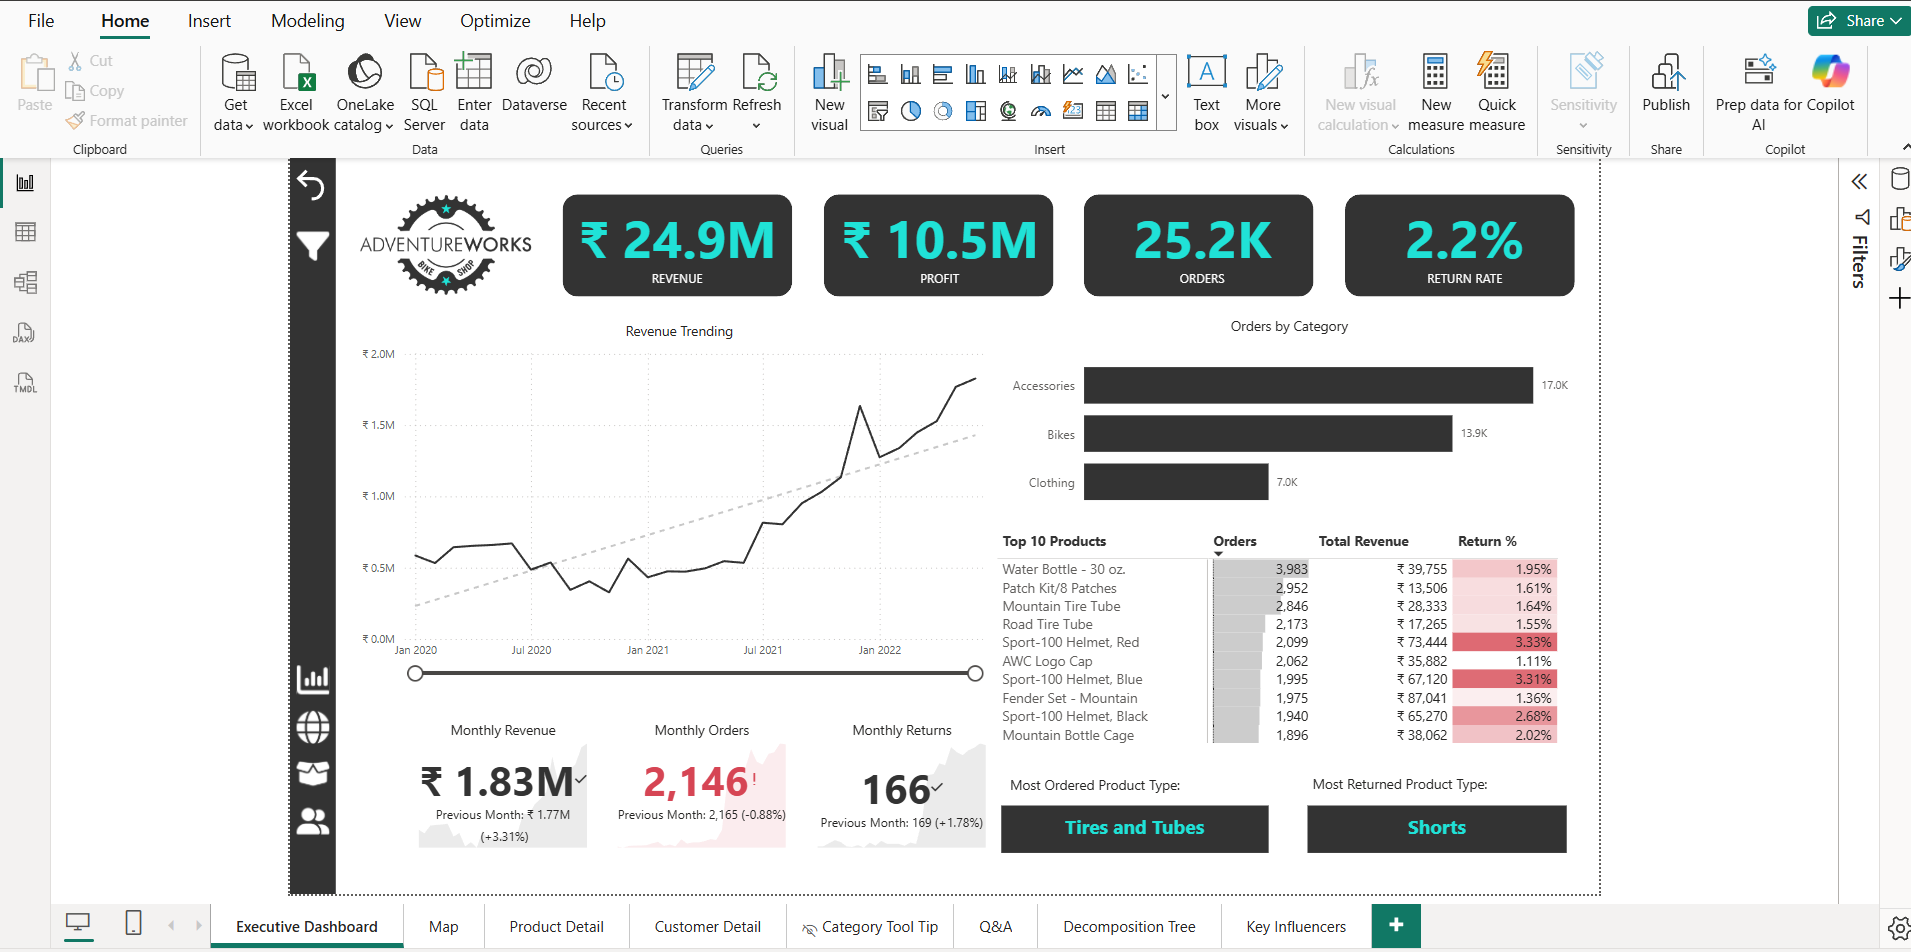

This screenshot's page, from the dashboard's own definition file:
{"tool":"powerbi","page":{"name":"Executive Dashboard","canvas":[1280,720],"ordinal":0},"visuals":[{"type":"card","fields":{"Values":["Measure Table.Return Rate"]},"box":[1033,9.8,234.7,150.4],"z":0,"group":"g2"},{"type":"image","title":"AW Logo","box":[45.2,14.7,215.1,140.6],"z":0},{"type":"group","id":"g1","title":"KPI Backgrounds","box":[267.2,35.5,990.2,100.2],"z":0,"group":"g3"},{"type":"shape","box":[267.2,35.5,224.9,100.2],"z":0,"group":"g1"},{"type":"actionButton","box":[2.7,490.2,45.2,40.3],"z":0,"group":"g4"},{"type":"shape","title":"Left Nav Background","box":[0,0,45,720],"z":1000},{"type":"group","id":"g2","title":"KPI Values","box":[262,9.8,1005.7,150.4],"z":1000,"group":"g3"},{"type":"card","fields":{"Values":["Measure Table.Total Orders"]},"box":[776,9.8,234.7,150.4],"z":1000,"group":"g2"},{"type":"shape","box":[777.4,35.5,224.9,100.2],"z":1000,"group":"g1"},{"type":"actionButton","box":[2.7,582.3,45.2,40.3],"z":1000,"group":"g4"},{"type":"group","id":"g3","title":"KPIs","box":[262,9.8,1005.7,150.4],"z":2000},{"type":"card","fields":{"Values":["Measure Table.Total Profit"]},"box":[519,9.8,234.7,150.4],"z":2000,"group":"g2"},{"type":"shape","box":[1032.4,35.5,224.9,100.2],"z":2000,"group":"g1"},{"type":"actionButton","box":[2.7,628.3,45.2,40.3],"z":2000,"group":"g4"},{"type":"card","title":"Card","fields":{"Values":["Measure Table.Total Revenue"]},"box":[262,9.8,234.7,150.4],"z":3000,"group":"g2"},{"type":"shape","box":[522.3,35.5,224.9,100.2],"z":3000,"group":"g1"},{"type":"lineChart","title":"Revenue Trending","fields":{"Y":["Measure Table.Total Revenue"],"Category":["Calendar Lookup.Year","Calendar Lookup.Start of Quarter","Calendar Lookup.Start of Month"]},"box":[64.8,160.1,632,354.5],"z":3000},{"type":"actionButton","box":[2.7,536.2,45.2,40.3],"z":3000,"group":"g4"},{"type":"kpi","title":"Monthly Revenue","fields":{"Indicator":["Measure Table.Total Revenue"],"TrendLine":["Calendar Lookup.Start of Month"],"Goal":["Measure Table.Previous Month Revenue"]},"box":[121,550.3,174.8,129.6],"z":4000},{"type":"kpi","title":"Monthly Orders","fields":{"TrendLine":["Calendar Lookup.Start of Month"],"Indicator":["Measure Table.Total Orders"],"Goal":["Measure Table.Previous Month Orders"]},"box":[316,550.3,174.8,129.6],"z":5000},{"type":"kpi","title":"Monthly Returns","fields":{"TrendLine":["Calendar Lookup.Start of Month"],"Indicator":["Measure Table.Total Returns"],"Goal":["Measure Table.Previous Month Returns"]},"box":[511,550.3,174.8,129.6],"z":6000},{"type":"clusteredBarChart","title":"Orders by Category","fields":{"Category":["Product Categories Lookup.CategoryName"],"Y":["Measure Table.Total Orders"]},"box":[696.8,155.2,561.1,205.4],"z":7000},{"type":"pivotTable","fields":{"Rows":["Product Lookup.ProductName"],"Values":["Measure Table.Total Orders","Measure Table.Total Revenue","Measure Table.Return Rate"]},"box":[687,360.6,570.9,232.3],"z":8000},{"type":"card","fields":{"Values":["Min(Product Subcategories Lookup.SubcategoryName)"]},"box":[696.2,633.8,261.2,46.2],"z":9000},{"type":"textbox","box":[700,598.8,205,43.8],"z":10000},{"type":"card","fields":{"Values":["Min(Product Subcategories Lookup.SubcategoryName)"]},"box":[995,633.8,253.8,46.2],"z":11000},{"type":"textbox","box":[995,597.8,205,43.8],"z":12000},{"type":"actionButton","box":[0,6.1,45.2,40.3],"z":13000},{"type":"group","id":"g4","title":"Navigation Buttons","box":[2.7,490.2,45.2,178.5],"z":14000},{"type":"actionButton","box":[2.4,66,47.7,40.3],"z":15000}]}

Visuals, with their boxes on the page's 1280x720 design canvas (x1, y1, x2, y2). These are canvas units, not pixel positions in the 1911x952 screenshot, which may show the page scaled, cropped or inside an application window:
card - Measure Table.Return Rate: 1033 10 1268 160
"AW Logo" image: 45 15 260 155
"KPI Backgrounds" group: 267 36 1257 136
shape: 267 36 492 136
actionButton: 3 490 48 530
"Left Nav Background" shape: 0 0 45 720
"KPI Values" group: 262 10 1268 160
card - Measure Table.Total Orders: 776 10 1011 160
shape: 777 36 1002 136
actionButton: 3 582 48 623
"KPIs" group: 262 10 1268 160
card - Measure Table.Total Profit: 519 10 754 160
shape: 1032 36 1257 136
actionButton: 3 628 48 669
"Card" card: 262 10 497 160
shape: 522 36 747 136
"Revenue Trending" lineChart: 65 160 697 515
actionButton: 3 536 48 576
"Monthly Revenue" kpi: 121 550 296 680
"Monthly Orders" kpi: 316 550 491 680
"Monthly Returns" kpi: 511 550 686 680
"Orders by Category" clusteredBarChart: 697 155 1258 361
pivotTable - Product Lookup.ProductName x Measure Table.Total Orders: 687 361 1258 593
card - Min(Product Subcategories Lookup.SubcategoryName): 696 634 957 680
textbox: 700 599 905 643
card - Min(Product Subcategories Lookup.SubcategoryName): 995 634 1249 680
textbox: 995 598 1200 642
actionButton: 0 6 45 46
"Navigation Buttons" group: 3 490 48 669
actionButton: 2 66 50 106
